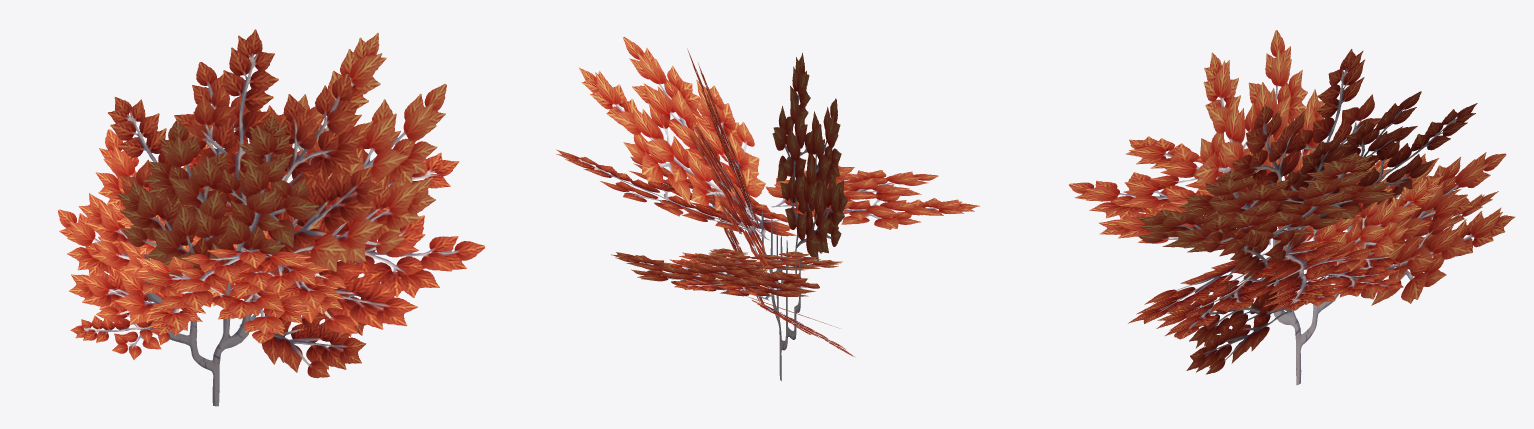
The model's file is Bush2.obj.
The picture shows the model from 3 angles, left to right: view 1: azimuth 30°, elevation 25°; view 2: azimuth 150°, elevation 25°; view 3: azimuth 270°, elevation 25°; orthographic projection. The views are drawn at different scales.
Visible parts, largest first — view 1: pPlane162; view 2: pPlane162; view 3: pPlane162.
Boxes of the visible parts, x1,y1,x2,y2 form: pPlane162: (58,29,485,406); pPlane162: (556,37,979,380); pPlane162: (1069,30,1514,385).
Bounding box in the file's own units: 26.82 × 22.14 × 26.2.
